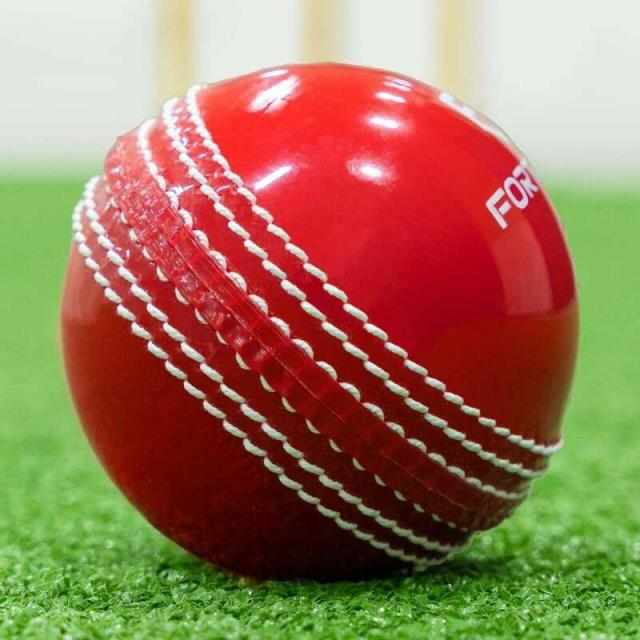ball: (64, 63, 578, 584)
